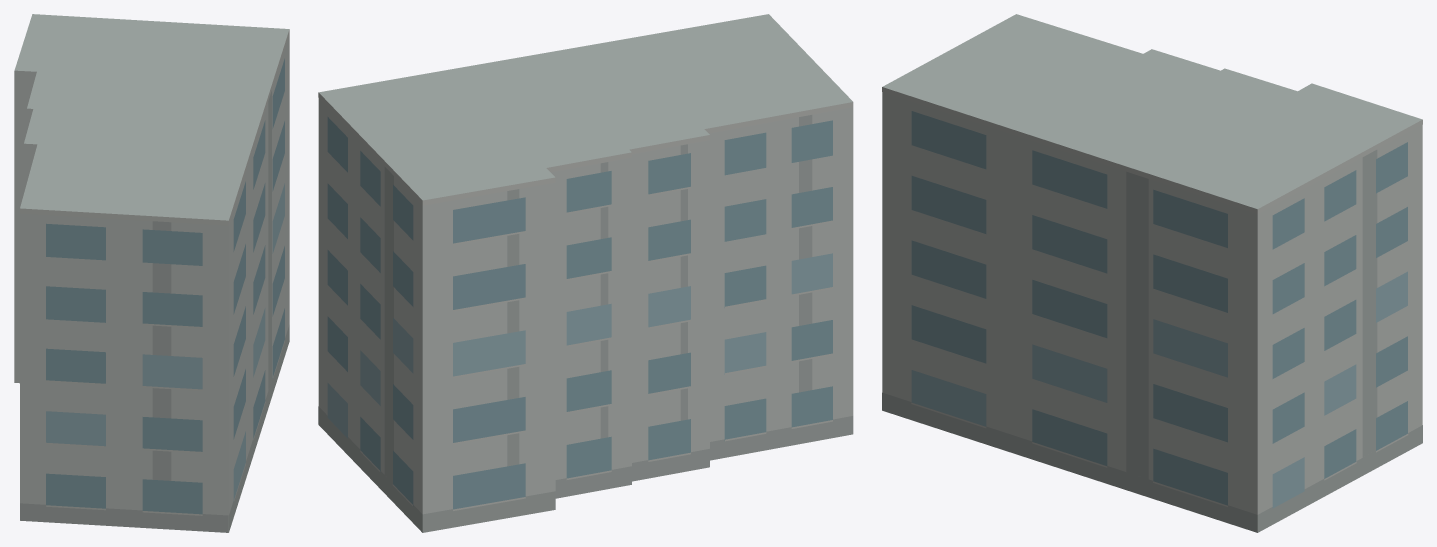
File: survey-upis-32907484.glb
3 views of the same model, side by side, from view 1: azimuth 30°, elevation 25°; view 2: azimuth 150°, elevation 25°; view 3: azimuth 270°, elevation 25° (orthographic). The views are drawn at different scales.
Visible parts, largest first — view 1: survey-upis-32907484.tmp; view 2: survey-upis-32907484.tmp; view 3: survey-upis-32907484.tmp.
Part boxes in pixels (<box>): survey-upis-32907484.tmp: <box>14,14,289,532</box>; survey-upis-32907484.tmp: <box>318,14,853,532</box>; survey-upis-32907484.tmp: <box>882,14,1422,532</box>.
Size of the model in its own units: 19.74 by 15.25 by 23.09.
